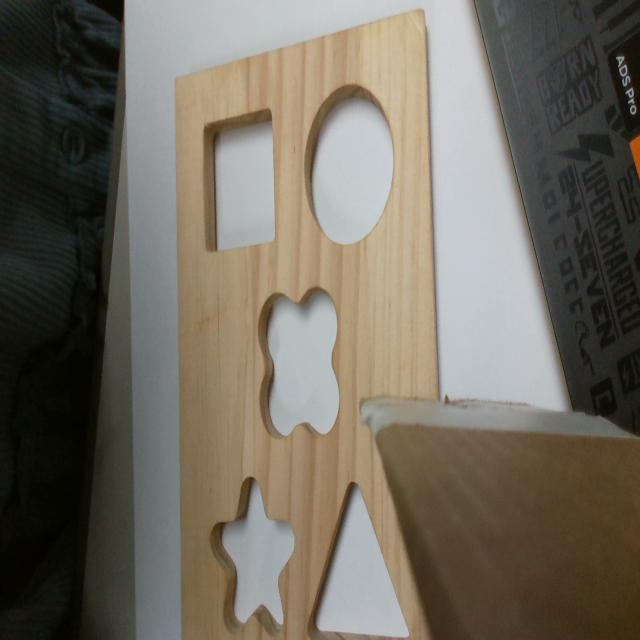circle: (304, 86, 394, 244)
flower: (258, 289, 340, 440)
square: (210, 479, 295, 639), (202, 104, 275, 256)
triangle: (304, 481, 413, 637)
